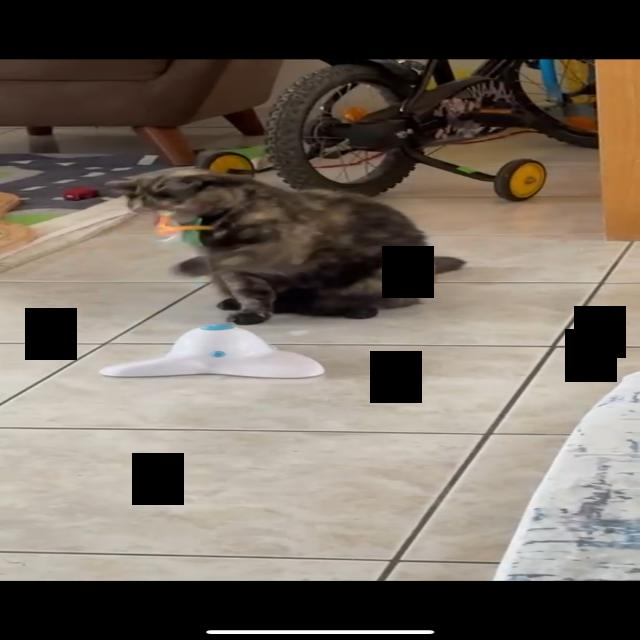authorized: (106, 166, 467, 325)
